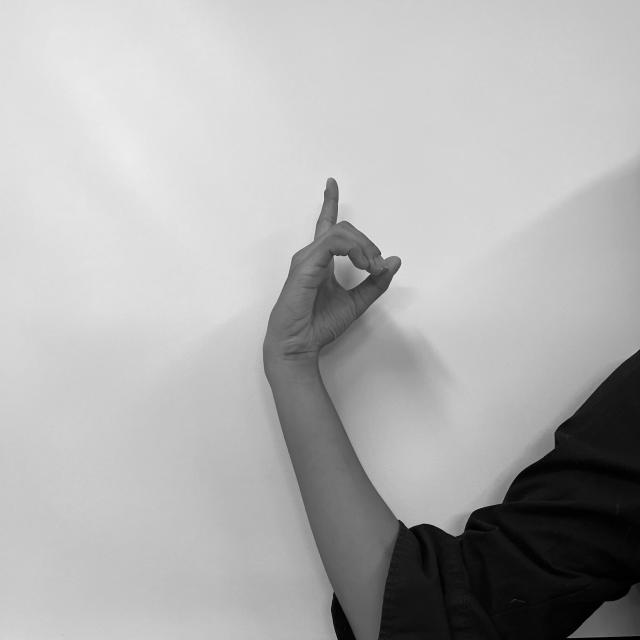Letra D: (258, 172, 406, 360)
